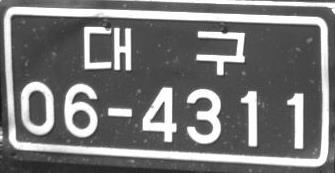0: (19, 80, 54, 136)
1: (235, 89, 268, 146), (280, 92, 313, 149)
3: (186, 87, 221, 144)
4: (143, 86, 176, 142)
6: (63, 82, 97, 138)
대구_D: (83, 25, 245, 76)
